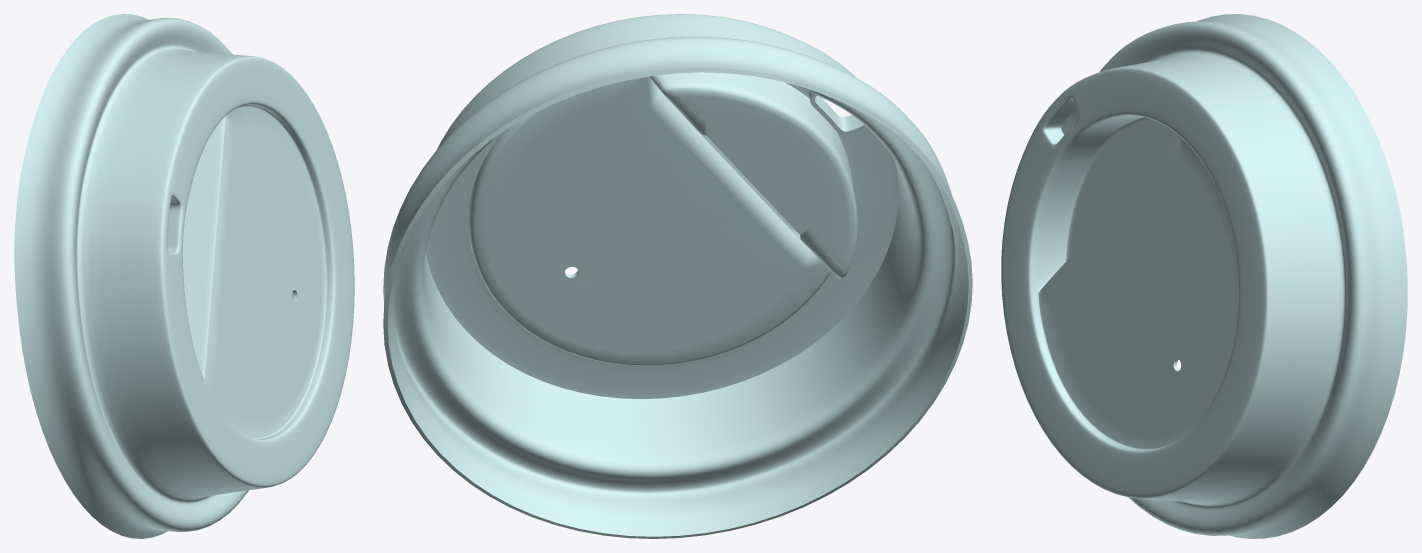
The model's file is lid2.gltf.
The picture shows the model from 3 angles, left to right: view 1: azimuth 30°, elevation 25°; view 2: azimuth 150°, elevation 25°; view 3: azimuth 270°, elevation 25°; orthographic projection. The views are drawn at different scales.
Visible parts, largest first — view 1: lid2; view 2: lid2; view 3: lid2.
Part boxes in pixels (box(x1,y1,x2,y2)): lid2: box(14, 14, 354, 538); lid2: box(383, 14, 972, 538); lid2: box(1001, 14, 1407, 538).
Size of the model in its own units: 8.65 by 9.53 by 7.47.
